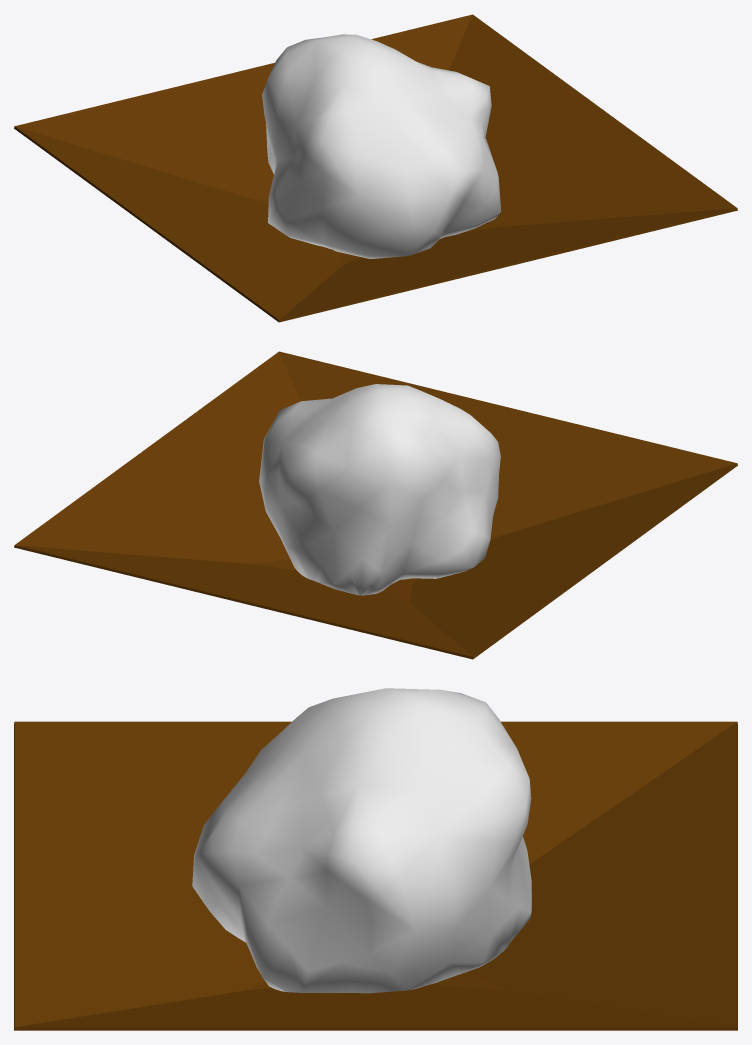
File: plant pulp.fbx
3 renders of one model, top to bottom at view 1: azimuth 30°, elevation 25°; view 2: azimuth 150°, elevation 25°; view 3: azimuth 270°, elevation 25°, orthographic. The views are drawn at different scales.
Visible parts, largest first — view 1: plant pulp; view 2: plant pulp; view 3: plant pulp.
Boxes of the visible parts, left/top/right/bottom form: plant pulp: left=14, top=14, right=737, bottom=322; plant pulp: left=14, top=351, right=737, bottom=659; plant pulp: left=14, top=688, right=737, bottom=1030.
Size of the model in its own units: 161 by 61.56 by 161.
